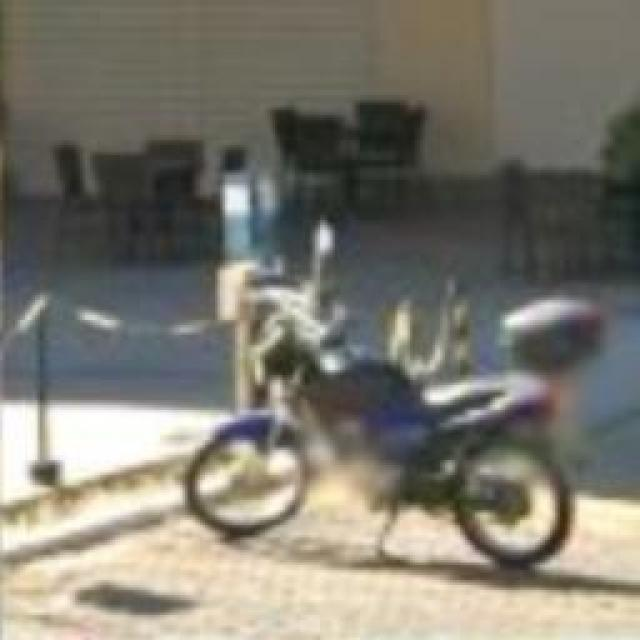motorbike: (190, 240, 612, 585)
